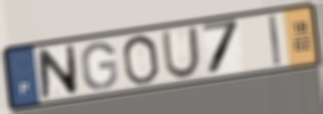7: (200, 17, 242, 77)
G: (79, 40, 120, 92)
I: (267, 13, 283, 68)
N: (36, 43, 81, 101)
O: (121, 32, 162, 87)
U: (160, 24, 202, 81)
